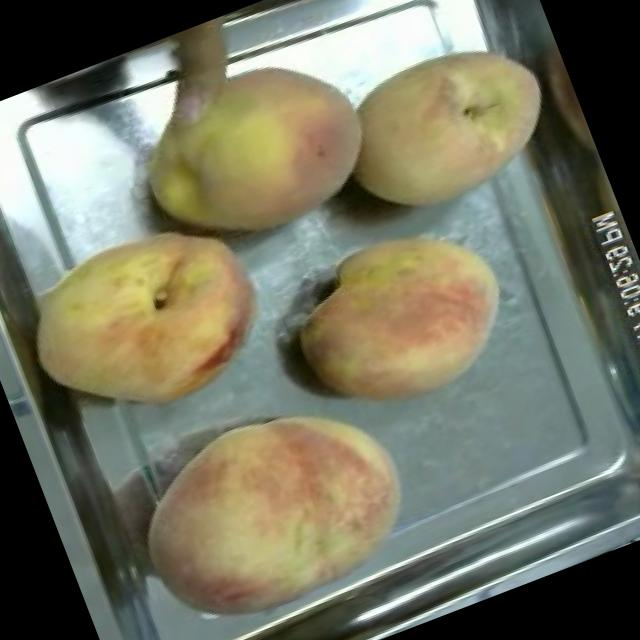Fruit: (105, 367, 441, 640), (0, 183, 300, 458), (106, 19, 400, 282), (264, 192, 538, 438), (310, 4, 583, 243)
